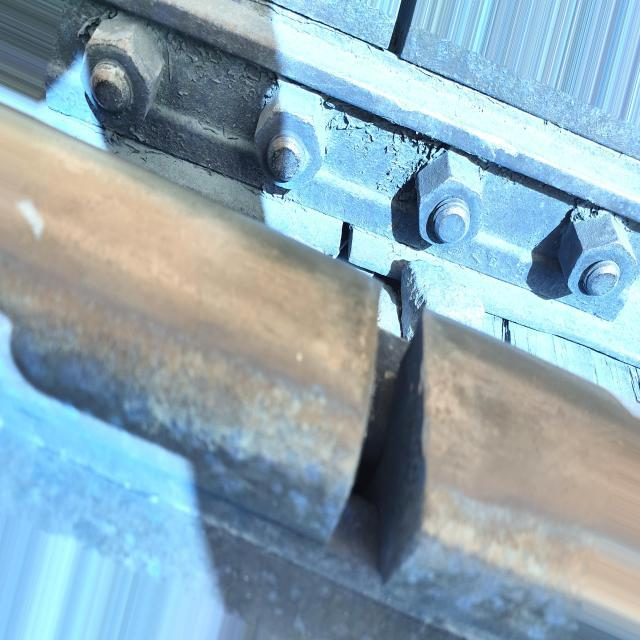Good Joint: (46, 0, 640, 333)
